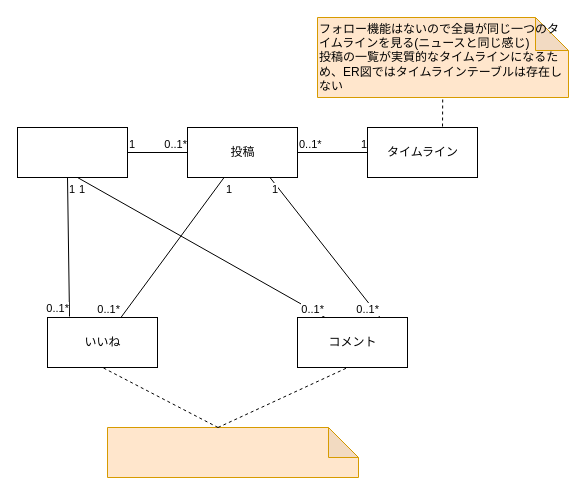
The diagram is 586 pixels wide and 495 high, and some of its shapes have lost their labels. The shapes that lost their labels are listed below. From the top down, each one's centre as x and y in pixels, then its label:
the point at 72,152: ユーザ
the point at 232,452: いいねもコメントも誰がしたかわかるようにユーザとの関係もある。
